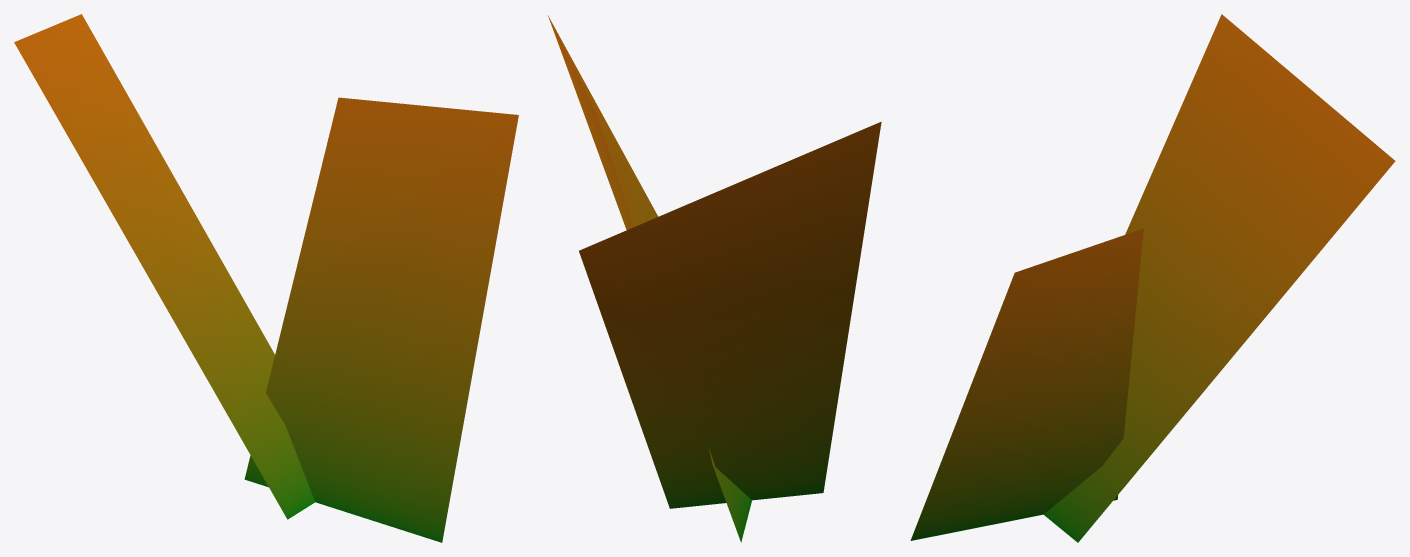
File: Var6_LOD3.fbx
3 renders of one model, left to right at view 1: azimuth 30°, elevation 25°; view 2: azimuth 150°, elevation 25°; view 3: azimuth 270°, elevation 25°, orthographic. The views are drawn at different scales.
Visible parts, largest first — view 1: _5850_Var6_LOD3; view 2: _5850_Var6_LOD3; view 3: _5850_Var6_LOD3.
Part boxes in pixels (<box>): _5850_Var6_LOD3: <box>14,14,518,542</box>; _5850_Var6_LOD3: <box>548,15,881,542</box>; _5850_Var6_LOD3: <box>910,14,1395,542</box>.
Bounding box in the file's own units: 15.83 × 17.14 × 18.24.
